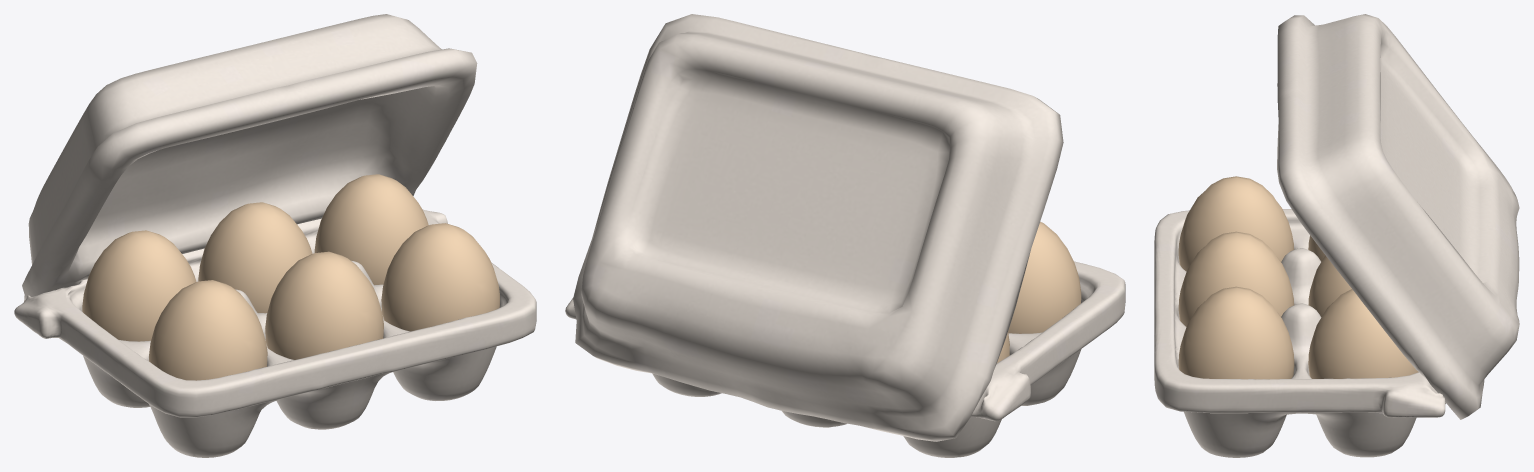
3 renders of one model, left to right at view 1: azimuth 30°, elevation 25°; view 2: azimuth 150°, elevation 25°; view 3: azimuth 270°, elevation 25°, orthographic. The views are drawn at different scales.
Parts seen in each view (by area): view 1: ZBrush_defualt_group001zz, Group006, Group2, Group007, Group005, Group004, Group003; view 2: ZBrush_defualt_group001zz, Group007; view 3: ZBrush_defualt_group001zz, Group2, Group003, Group007, Group006, Group004.
Part boxes in pixels (bbox=[...]): ZBrush_defualt_group001zz: bbox=[14, 14, 536, 457]; Group006: bbox=[265, 251, 383, 359]; Group2: bbox=[381, 223, 499, 331]; Group007: bbox=[149, 280, 267, 380]; Group005: bbox=[82, 230, 196, 341]; Group004: bbox=[198, 202, 312, 313]; Group003: bbox=[314, 174, 428, 285]; ZBrush_defualt_group001zz: bbox=[565, 14, 1125, 457]; Group007: bbox=[1008, 222, 1081, 333]; ZBrush_defualt_group001zz: bbox=[1154, 14, 1519, 457]; Group2: bbox=[1178, 286, 1294, 379]; Group003: bbox=[1308, 289, 1418, 378]; Group007: bbox=[1178, 176, 1294, 271]; Group006: bbox=[1178, 231, 1294, 326]; Group004: bbox=[1308, 255, 1351, 316].
Bounding box in the file's own units: 25.23 × 19.21 × 20.16.
2 materials, 2 textured.
